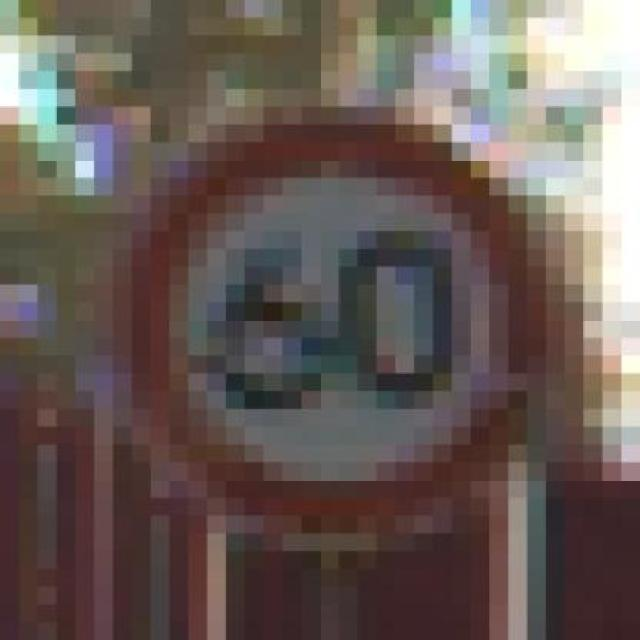forb_speed_over_60: (132, 111, 546, 537)
